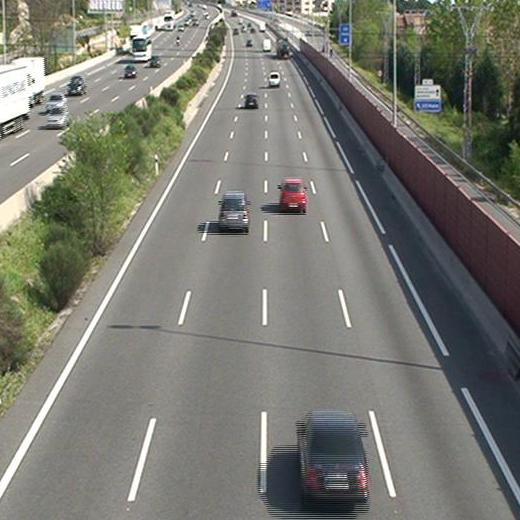car: (297, 410, 369, 506), (219, 192, 247, 229), (280, 178, 306, 211), (244, 92, 258, 108)
truck: (276, 37, 290, 58)
van: (268, 72, 279, 87), (263, 38, 271, 53)
